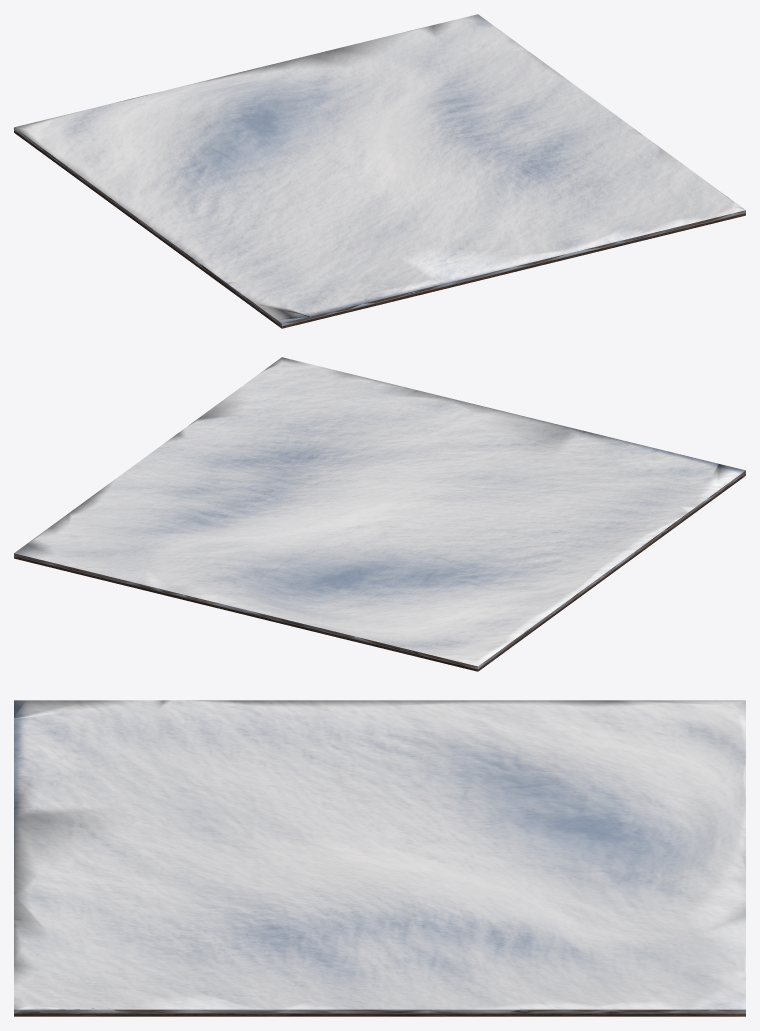
3 views of the same model, one above another, from view 1: azimuth 30°, elevation 25°; view 2: azimuth 150°, elevation 25°; view 3: azimuth 270°, elevation 25° (orthographic). The views are drawn at different scales.
Parts seen in each view (by area): view 1: snow-ground.001; view 2: snow-ground.001; view 3: snow-ground.001.
Part boxes in pixels (box(x1,y1,x2,y2)): snow-ground.001: box(14, 14, 745, 328); snow-ground.001: box(14, 357, 745, 671); snow-ground.001: box(14, 700, 745, 1016).
Bounding box in the file's own units: 32 × 0.4015 × 32.
Materials: 2 (2 with a texture image).
